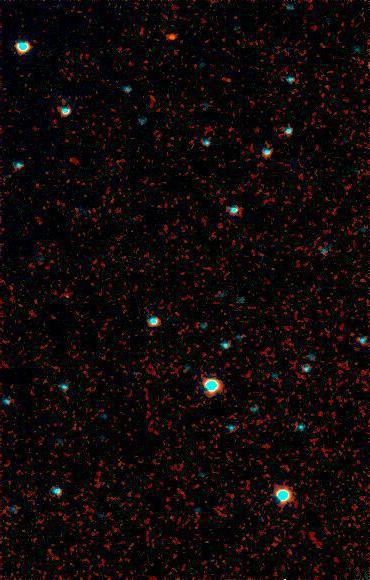star: (158, 20, 188, 50)
